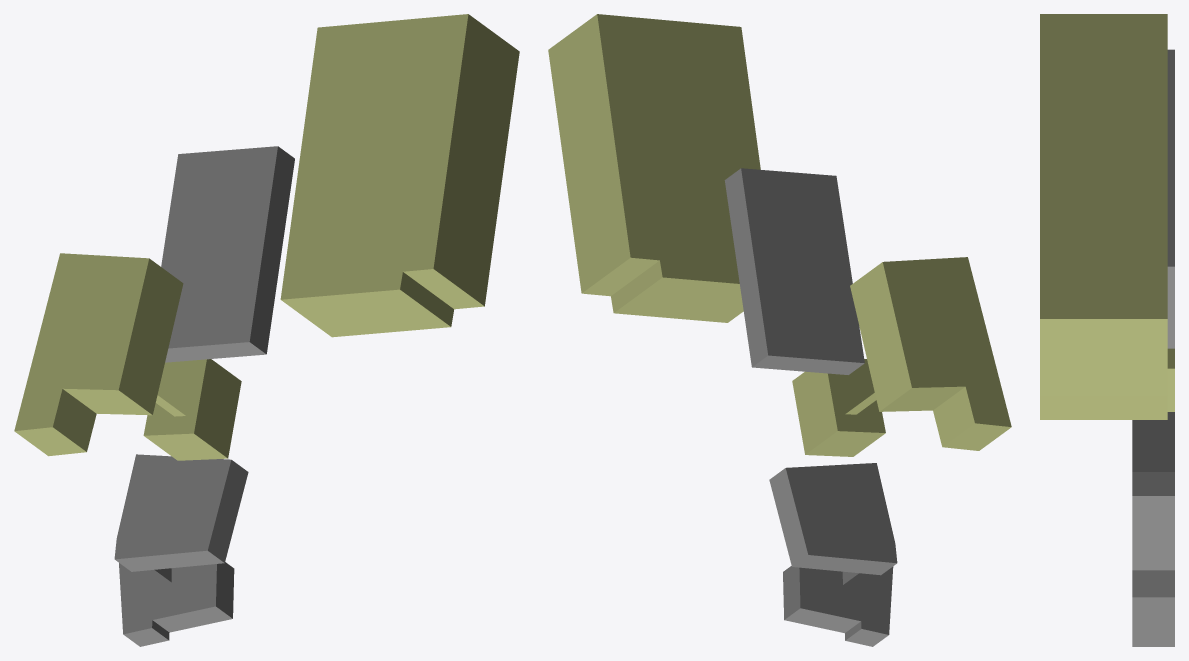
3 renders of one model, left to right at view 1: azimuth 30°, elevation 25°; view 2: azimuth 150°, elevation 25°; view 3: azimuth 270°, elevation 25°, orthographic. The views are drawn at different scales.
Visible parts, largest first — view 1: 0_1_0_2_0_0_0_1_0; view 2: 0_1_0_2_0_0_0_1_0; view 3: 0_1_0_2_0_0_0_1_0.
Part boxes in pixels (box(x1,y1,x2,y2)): 0_1_0_2_0_0_0_1_0: box(14, 14, 519, 646); 0_1_0_2_0_0_0_1_0: box(548, 14, 1011, 646); 0_1_0_2_0_0_0_1_0: box(1040, 14, 1174, 646).
Size of the model in its own units: 45.84 by 54.48 by 9.5.
